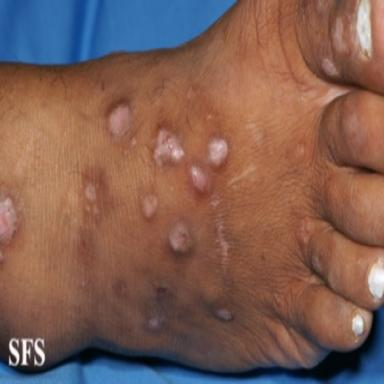Epidermolysis-Bullosa-Pruriginosa: (153, 129, 185, 167), (0, 194, 17, 248), (109, 104, 132, 139), (169, 222, 192, 254), (330, 15, 347, 58), (189, 163, 210, 192), (209, 138, 228, 167), (141, 194, 158, 220), (322, 57, 342, 79), (311, 254, 327, 281), (85, 182, 96, 213), (216, 310, 232, 322), (148, 318, 161, 331)
